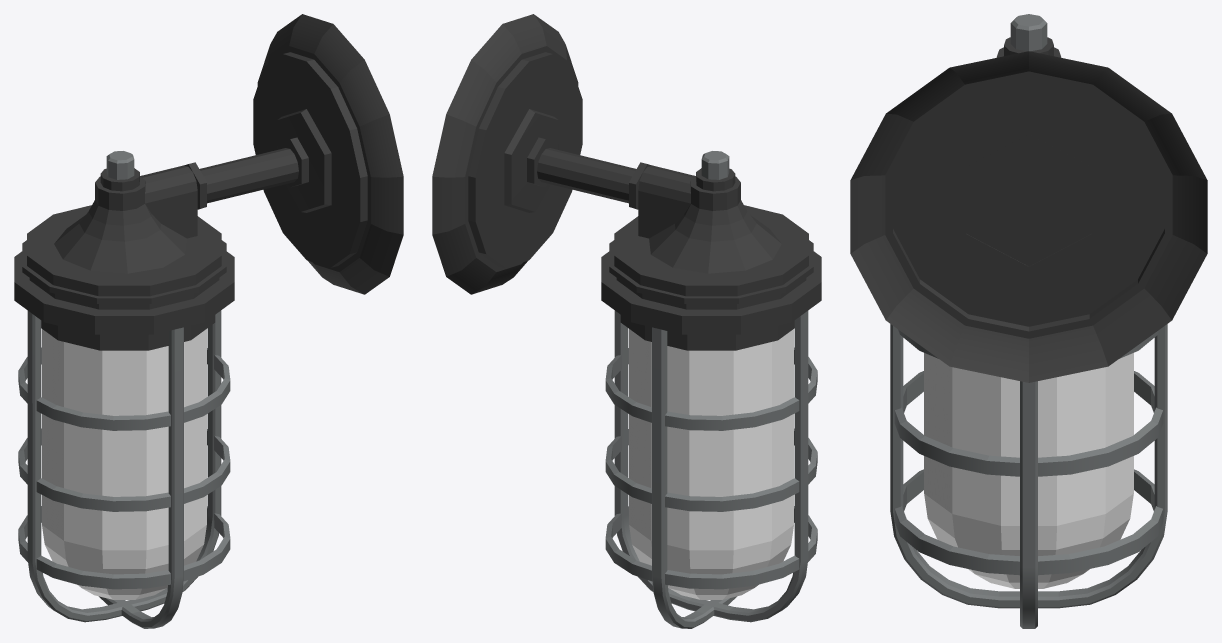
File: light.fbx
The picture shows the model from 3 angles, left to right: view 1: azimuth 30°, elevation 25°; view 2: azimuth 150°, elevation 25°; view 3: azimuth 270°, elevation 25°; orthographic projection. The views are drawn at different scales.
Visible parts, largest first — view 1: Light_Fixture_Base, Light_Bulb; view 2: Light_Fixture_Base, Light_Bulb; view 3: Light_Fixture_Base, Light_Bulb.
Boxes of the visible parts, x1,y1,x2,y2 form: Light_Fixture_Base: [14, 14, 403, 628]; Light_Bulb: [42, 329, 206, 599]; Light_Fixture_Base: [432, 14, 821, 628]; Light_Bulb: [629, 329, 793, 599]; Light_Fixture_Base: [850, 14, 1207, 628]; Light_Bulb: [924, 353, 1133, 588].
Size of the model in its own units: 0.2657 by 0.4486 by 0.2121.
